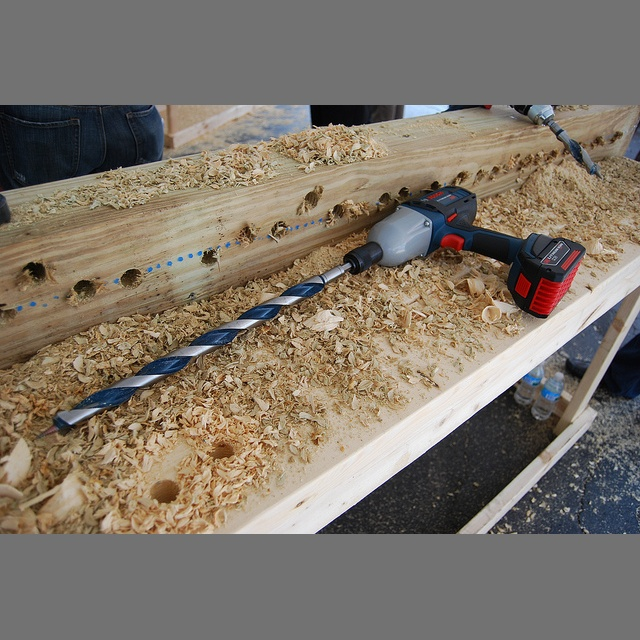drill: (56, 186, 585, 426)
